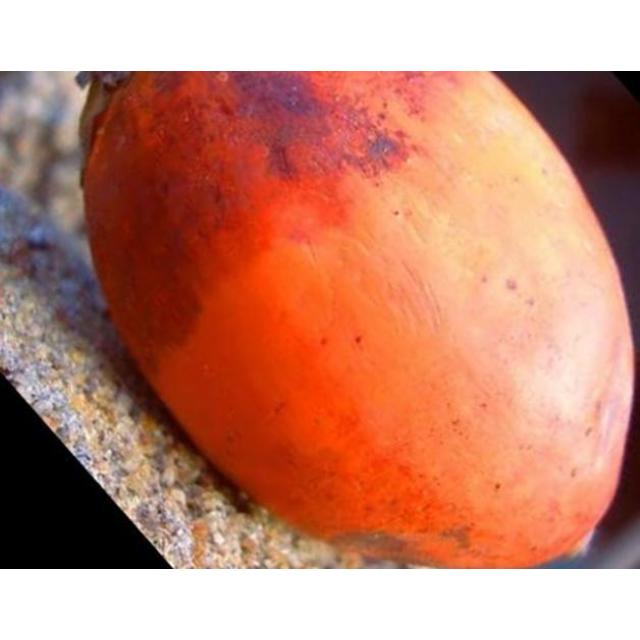good: (73, 71, 639, 568)
